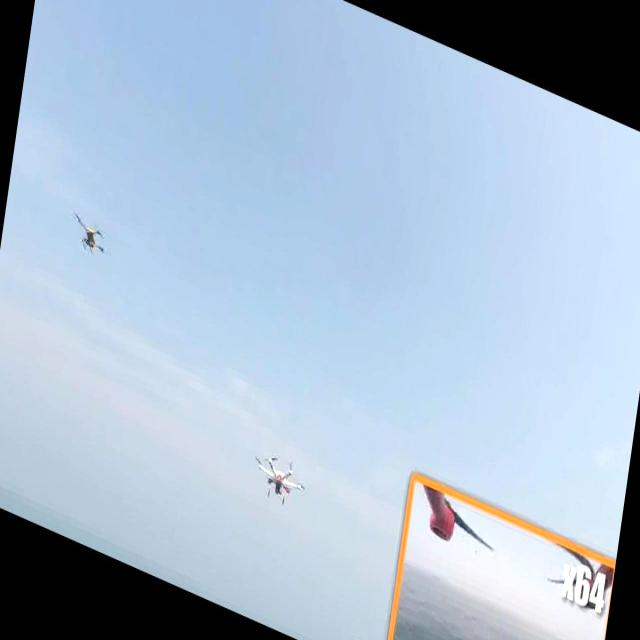drone: (248, 442, 308, 513), (67, 207, 113, 266)
